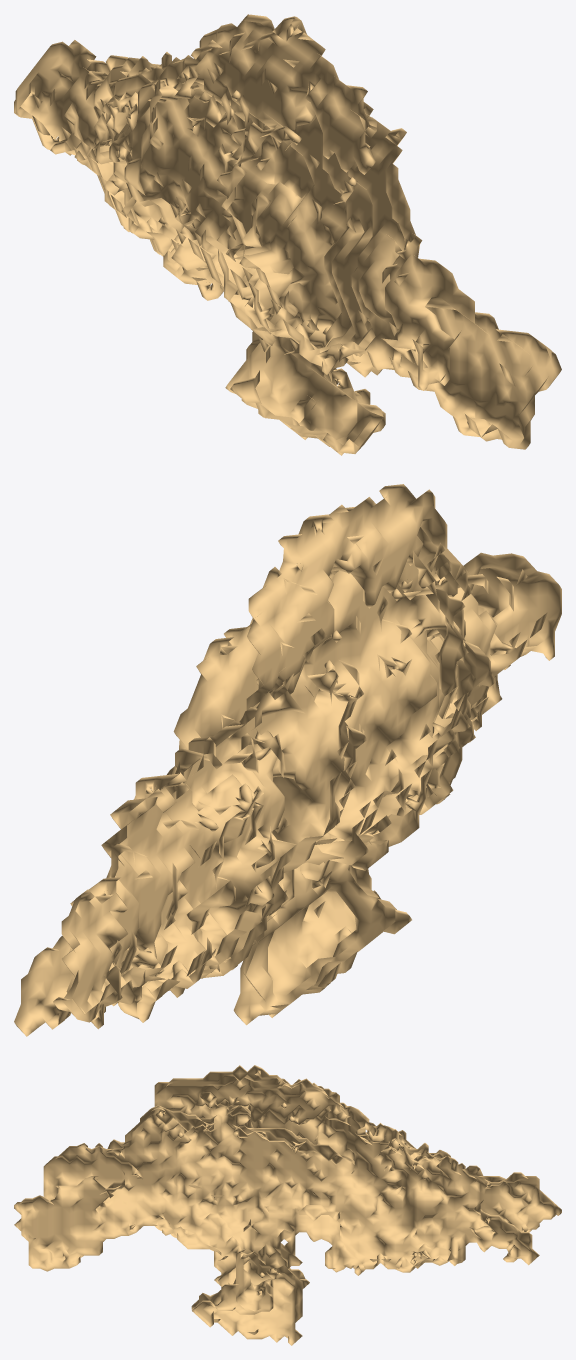
The model's file is osteocyte_110.glb.
3 views of the same model, one above another, from view 1: azimuth 30°, elevation 25°; view 2: azimuth 150°, elevation 25°; view 3: azimuth 270°, elevation 25° (orthographic). The views are drawn at different scales.
Parts seen in each view (by area): view 1: osteocyte_110; view 2: osteocyte_110; view 3: osteocyte_110.
Boxes of the visible parts, x1,y1,x2,y2 form: osteocyte_110: [14, 14, 561, 455]; osteocyte_110: [14, 484, 561, 1036]; osteocyte_110: [14, 1065, 561, 1345].
Bounding box in the file's own units: 10.11 × 19.26 × 35.63.
